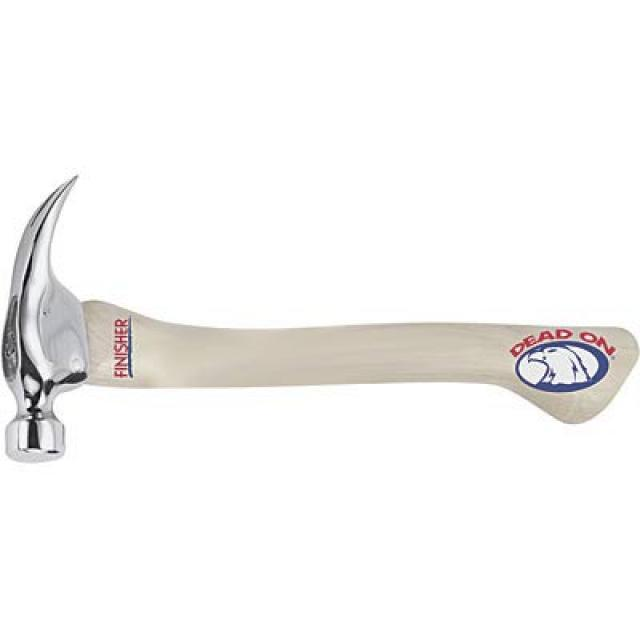hammer: (0, 170, 640, 474)
